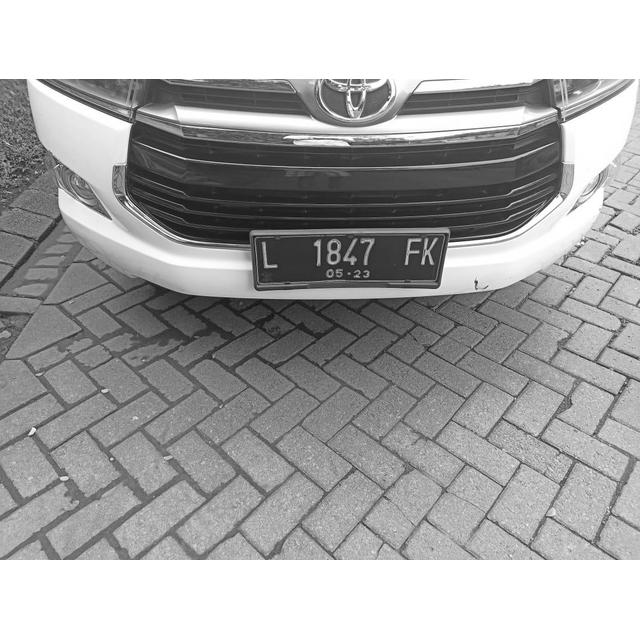license: (258, 235, 439, 282)
